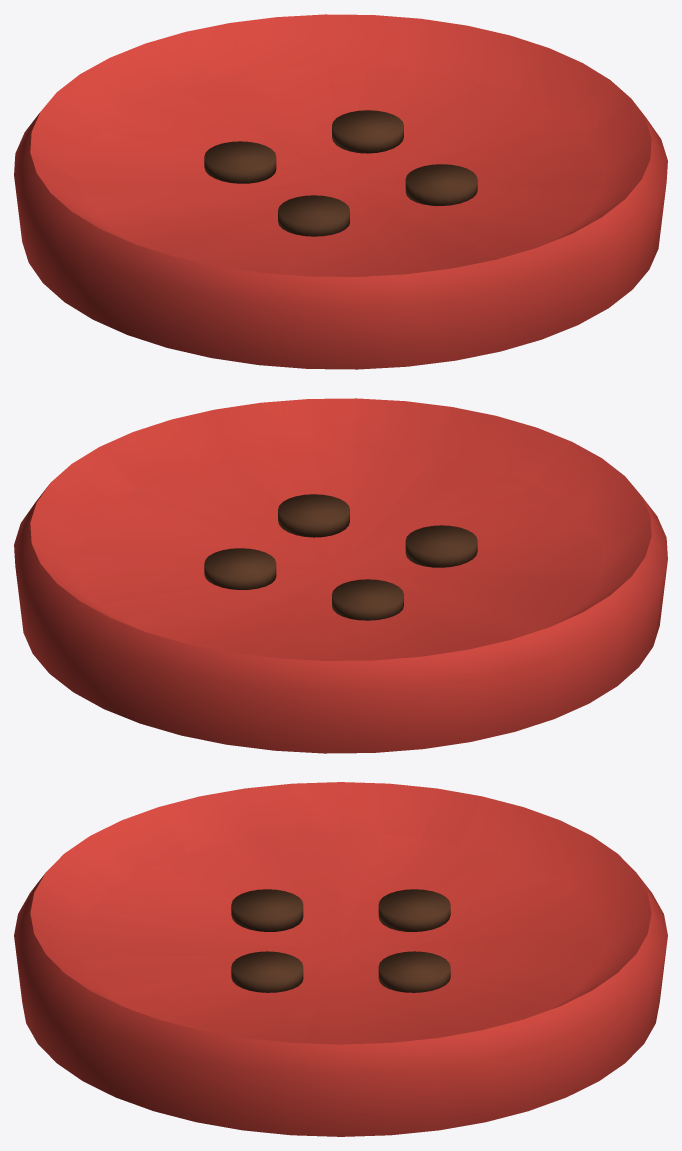
The model's file is den_button.glb.
3 renders of one model, top to bottom at view 1: azimuth 30°, elevation 25°; view 2: azimuth 150°, elevation 25°; view 3: azimuth 270°, elevation 25°, orthographic.
Visible parts, largest first — view 1: den_button; view 2: den_button; view 3: den_button.
Boxes of the visible parts, x1,y1,x2,y2 form: den_button: (14,14,667,369); den_button: (14,398,667,753); den_button: (14,782,667,1136).
Size of the model in its own units: 4 by 0.6 by 4.
